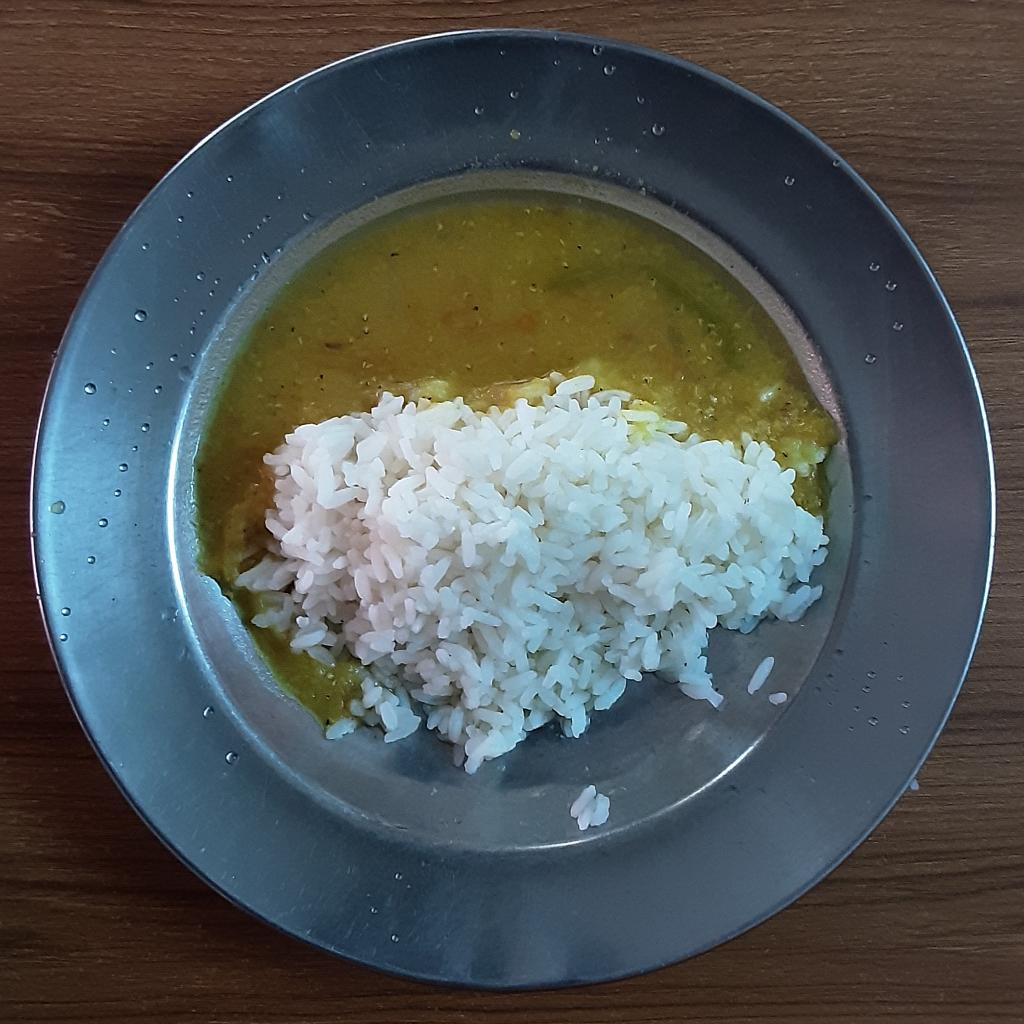daal: (191, 193, 843, 727)
rice: (247, 373, 841, 773)
